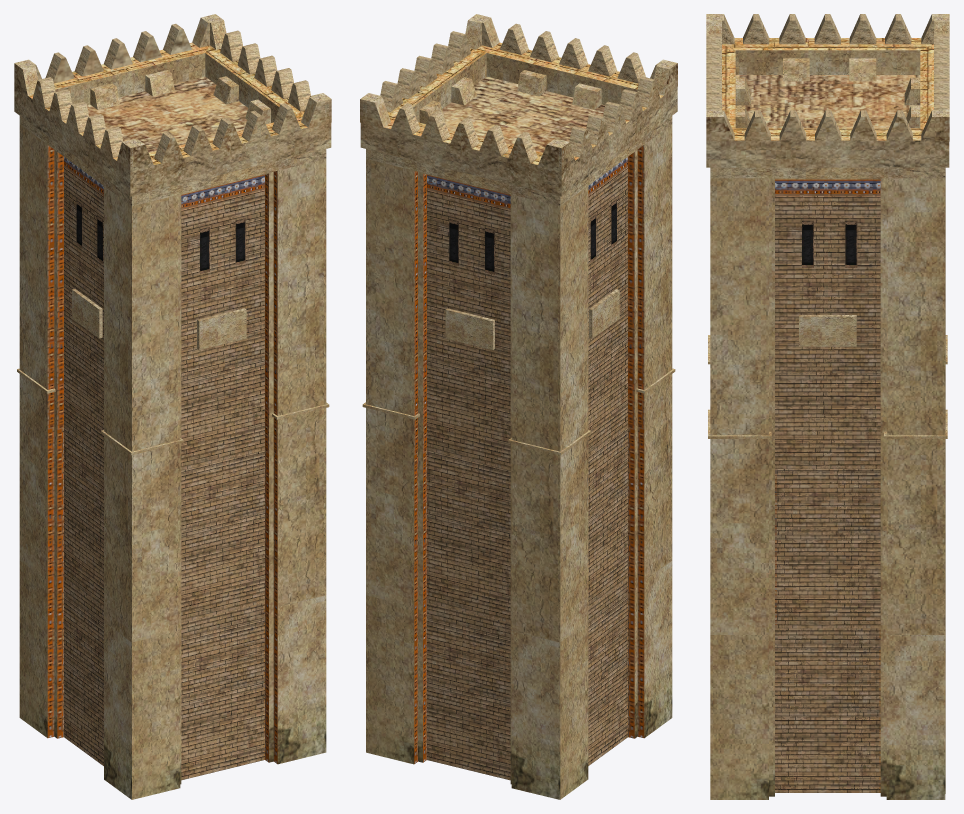
The model's file is pers_wall_tower.glb.
3 renders of one model, left to right at view 1: azimuth 30°, elevation 25°; view 2: azimuth 150°, elevation 25°; view 3: azimuth 270°, elevation 25°, orthographic. The views are drawn at different scales.
Size of the model in its own units: 8.03 by 24.93 by 8.03.
Materials: 1 (1 with a texture image).
